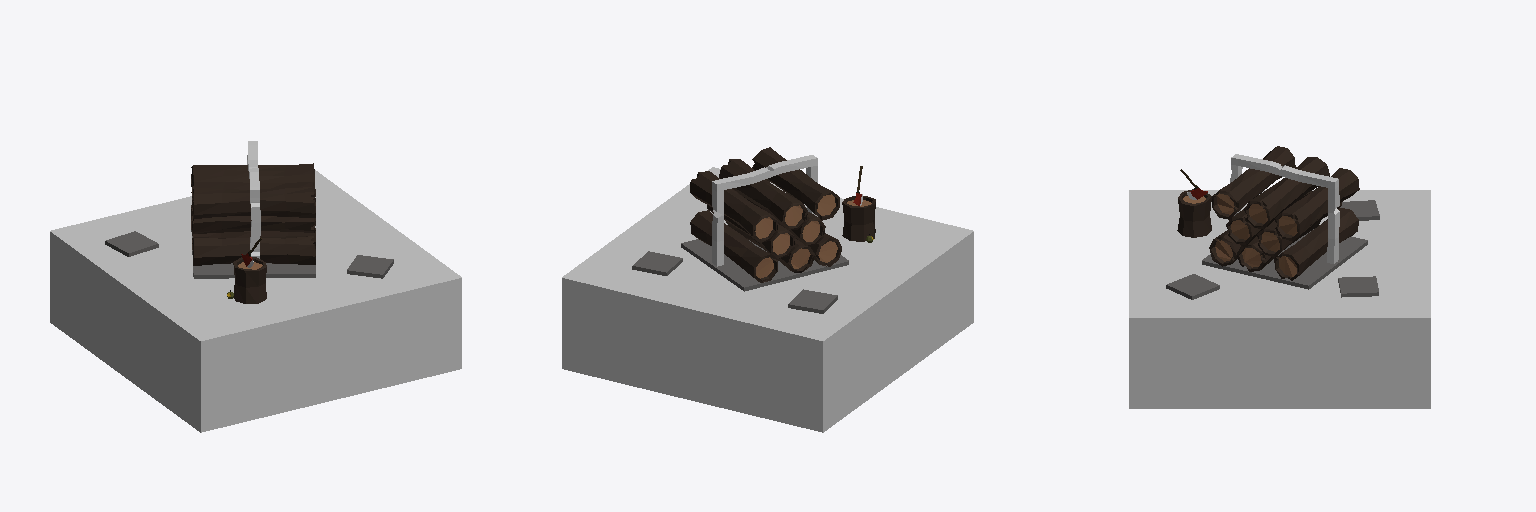
Rendered from Tile_Wood.obj.
The picture shows the model from 3 angles: view 1: azimuth 30°, elevation 25°; view 2: azimuth 150°, elevation 25°; view 3: azimuth 270°, elevation 25°; orthographic projection.
Parts seen in each view (by area): view 1: Cube, Cylinder.005_Cylinder.017, Cylinder.000_Cylinder.013, Cylinder.003_Cylinder.015, Cylinder.006_Cylinder.018, Cylinder, Cube.001_Cube.005, Cylinder.007_Cylinder.019, Cube.002_Cube.001, Cube.005_Cube.006, Cube.007_Cube.008, Cylinder.002_Cylinder.014; view 2: Cube, Cube.002_Cube.001, Cylinder.001_Cylinder.011, Cylinder.007_Cylinder.019, Cylinder.006_Cylinder.018, Cylinder.005_Cylinder.017, Cube.001_Cube.005, Cylinder, Cylinder.002_Cylinder.014, Cylinder.004_Cylinder.016, Cube.006_Cube.007, Cube.005_Cube.006 (+2 smaller); view 3: Cube, Cube.002_Cube.001, Cylinder.006_Cylinder.018, Cylinder.007_Cylinder.019, Cylinder.001_Cylinder.011, Cylinder.005_Cylinder.017, Cube.001_Cube.005, Cylinder, Cylinder.002_Cylinder.014, Cube.007_Cube.008, Cube.006_Cube.007, Cylinder.004_Cylinder.016 (+3 smaller).
Boxes of the visible parts, <box> form: Cube: <box>50,170,461,432</box>; Cylinder.005_Cylinder.017: <box>193,187,315,218</box>; Cylinder.000_Cylinder.013: <box>193,236,315,265</box>; Cylinder.003_Cylinder.015: <box>192,206,315,233</box>; Cylinder.006_Cylinder.018: <box>192,174,314,203</box>; Cylinder: <box>233,257,266,303</box>; Cube.001_Cube.005: <box>191,230,315,278</box>; Cylinder.007_Cylinder.019: <box>191,163,314,192</box>; Cube.002_Cube.001: <box>247,141,260,258</box>; Cube.005_Cube.006: <box>105,231,158,256</box>; Cube.007_Cube.008: <box>347,255,393,278</box>; Cylinder.002_Cylinder.014: <box>192,224,315,249</box>; Cube: <box>562,167,973,432</box>; Cube.002_Cube.001: <box>712,155,817,266</box>; Cylinder.001_Cylinder.011: <box>690,210,777,282</box>; Cylinder.007_Cylinder.019: <box>690,171,777,242</box>; Cylinder.006_Cylinder.018: <box>719,159,807,229</box>; Cylinder.005_Cylinder.017: <box>752,147,839,220</box>; Cube.001_Cube.005: <box>681,239,848,291</box>; Cylinder: <box>842,196,875,241</box>; Cylinder.002_Cylinder.014: <box>726,222,814,272</box>; Cylinder.004_Cylinder.016: <box>707,205,795,258</box>; Cube.006_Cube.007: <box>632,251,682,275</box>; Cube.005_Cube.006: <box>788,289,837,313</box>; Cube: <box>1129,190,1430,408</box>; Cube.002_Cube.001: <box>1230,154,1339,263</box>; Cylinder.006_Cylinder.018: <box>1244,157,1329,228</box>; Cylinder.007_Cylinder.019: <box>1275,168,1359,241</box>; Cylinder.001_Cylinder.011: <box>1274,208,1358,280</box>; Cylinder.005_Cylinder.017: <box>1212,146,1295,219</box>; Cube.001_Cube.005: <box>1202,229,1367,289</box>; Cylinder: <box>1177,189,1211,237</box>; Cylinder.002_Cylinder.014: <box>1237,219,1321,271</box>; Cube.007_Cube.008: <box>1166,274,1219,299</box>; Cube.006_Cube.007: <box>1338,276,1378,297</box>; Cylinder.004_Cylinder.016: <box>1257,202,1341,257</box>.
Bounding box in the file's own units: 3 × 1.96 × 3.